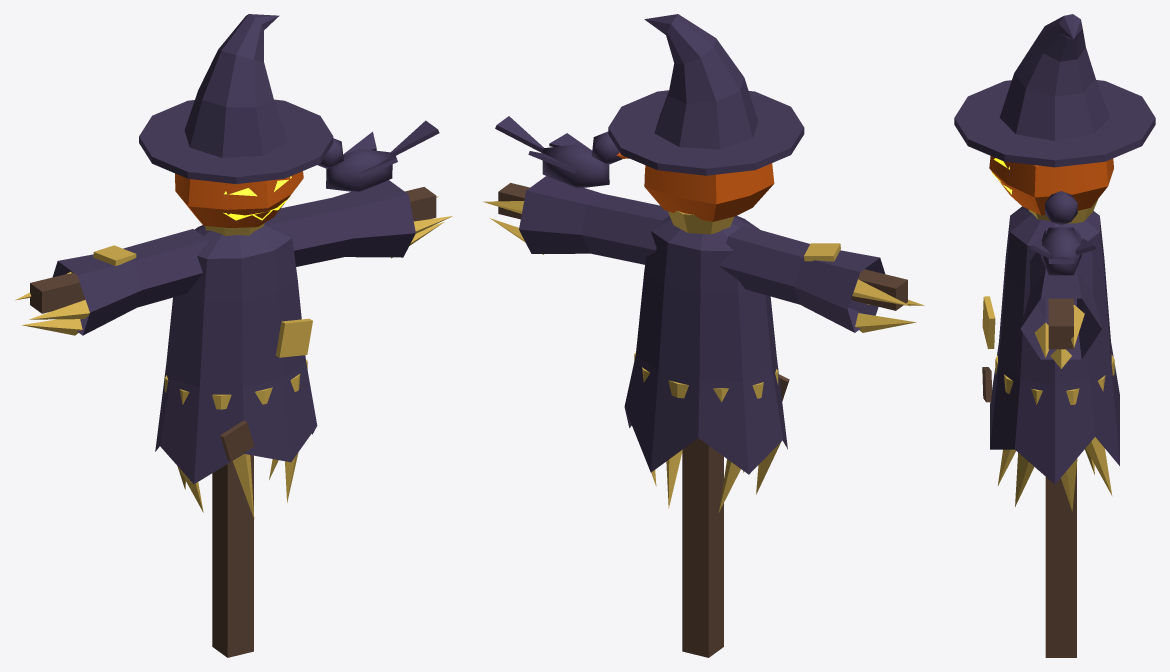
Rendered from scarecrow_spooky.glb.
3 renders of one model, left to right at view 1: azimuth 30°, elevation 25°; view 2: azimuth 150°, elevation 25°; view 3: azimuth 270°, elevation 25°, orthographic. The views are drawn at different scales.
Parts seen in each view (by area): view 1: scarecrow_spooky; view 2: scarecrow_spooky; view 3: scarecrow_spooky.
Part boxes in pixels (box(x1,y1,x2,y2)): scarecrow_spooky: box(15, 14, 452, 657); scarecrow_spooky: box(483, 14, 924, 657); scarecrow_spooky: box(954, 14, 1155, 657).
Bounding box in the file's own units: 1.62 × 2.27 × 0.64.
